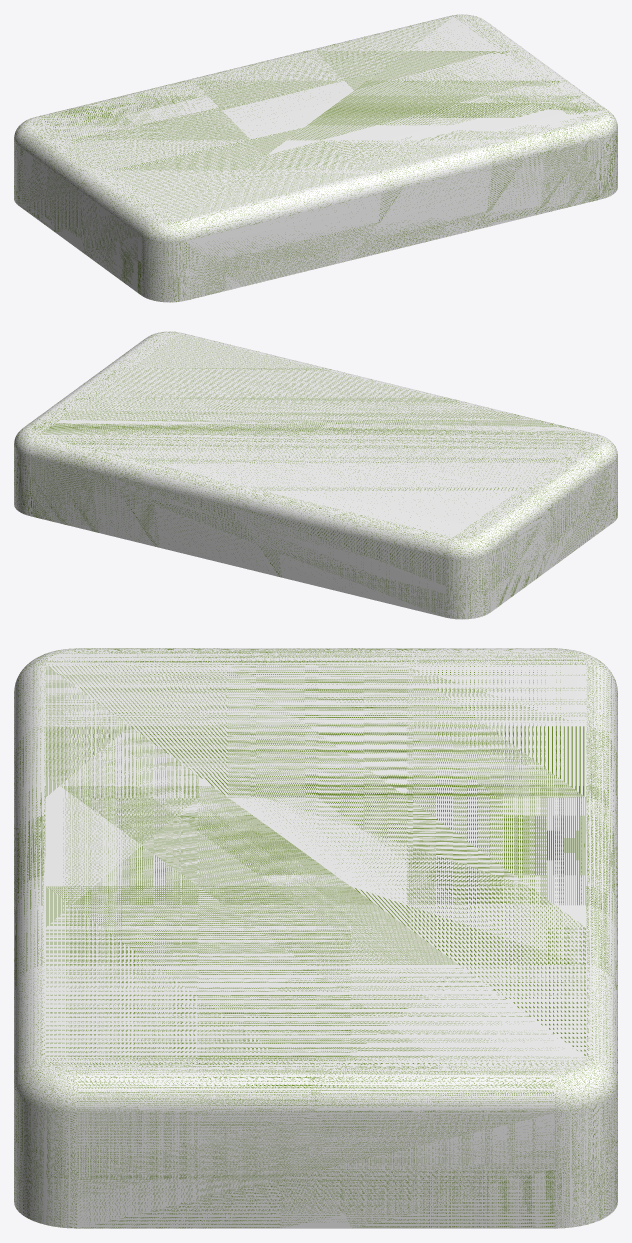
The model's file is original-73.obj.
3 renders of one model, top to bottom at view 1: azimuth 30°, elevation 25°; view 2: azimuth 150°, elevation 25°; view 3: azimuth 270°, elevation 25°, orthographic. The views are drawn at different scales.
Visible parts, largest first — view 1: Component_11_13/Component_11/mesh7/mesh7-geometry#mesh7-geometry; view 2: Component_11_13/Component_11/mesh7/mesh7-geometry#mesh7-geometry; view 3: Component_11_13/Component_11/mesh7/mesh7-geometry#mesh7-geometry.
Boxes of the visible parts, <box> form: Component_11_13/Component_11/mesh7/mesh7-geometry#mesh7-geometry: <box>14,14,617,302</box>; Component_11_13/Component_11/mesh7/mesh7-geometry#mesh7-geometry: <box>14,331,617,619</box>; Component_11_13/Component_11/mesh7/mesh7-geometry#mesh7-geometry: <box>14,648,617,1228</box>.
Bounding box in the file's own units: 0.0658 × 0.00989 × 0.0376.
